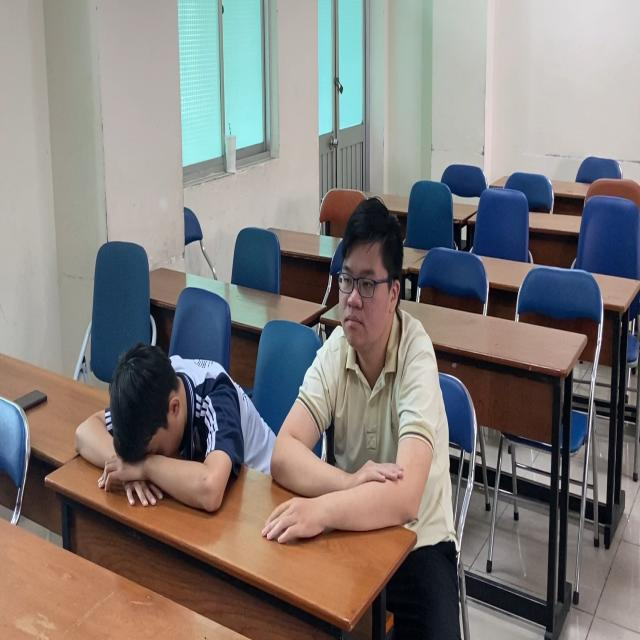sleep: (64, 340, 276, 515)
